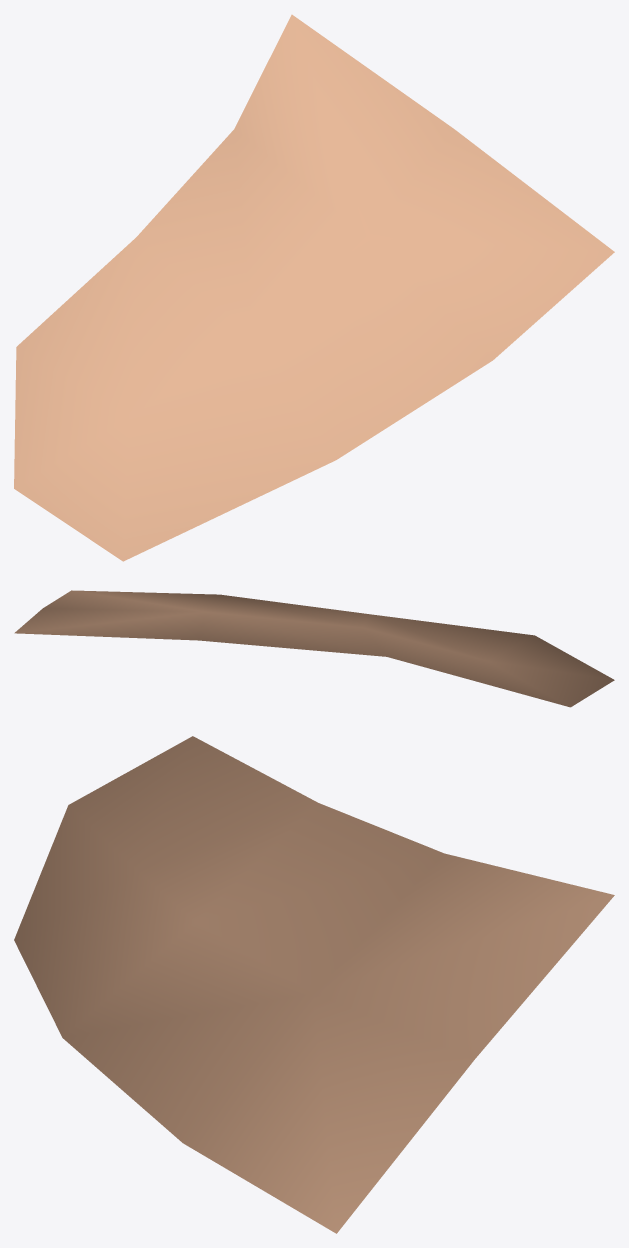
File: lesser-supraclavicular-fossa-l.glb
3 renders of one model, top to bottom at view 1: azimuth 30°, elevation 25°; view 2: azimuth 150°, elevation 25°; view 3: azimuth 270°, elevation 25°, orthographic. The views are drawn at different scales.
Parts seen in each view (by area): view 1: Lesser supraclavicular fossa.l; view 2: Lesser supraclavicular fossa.l; view 3: Lesser supraclavicular fossa.l.
Boxes of the visible parts, x1,y1,x2,y2 form: Lesser supraclavicular fossa.l: (14,14,614,561); Lesser supraclavicular fossa.l: (14,590,614,707); Lesser supraclavicular fossa.l: (14,736,614,1233).
Size of the model in its own units: 0.0347 by 0.0115 by 0.022.
